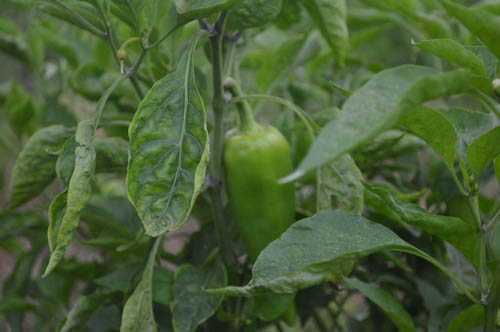ChiliPepper: (224, 128, 293, 250)
